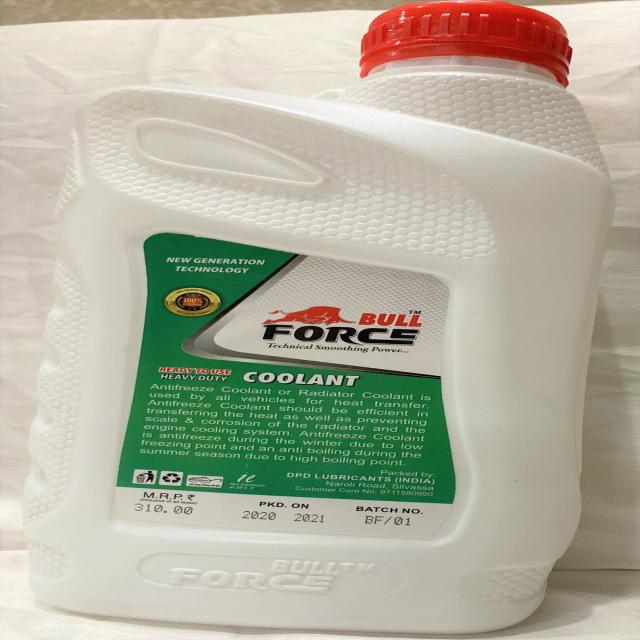coolant: (24, 0, 608, 632)
